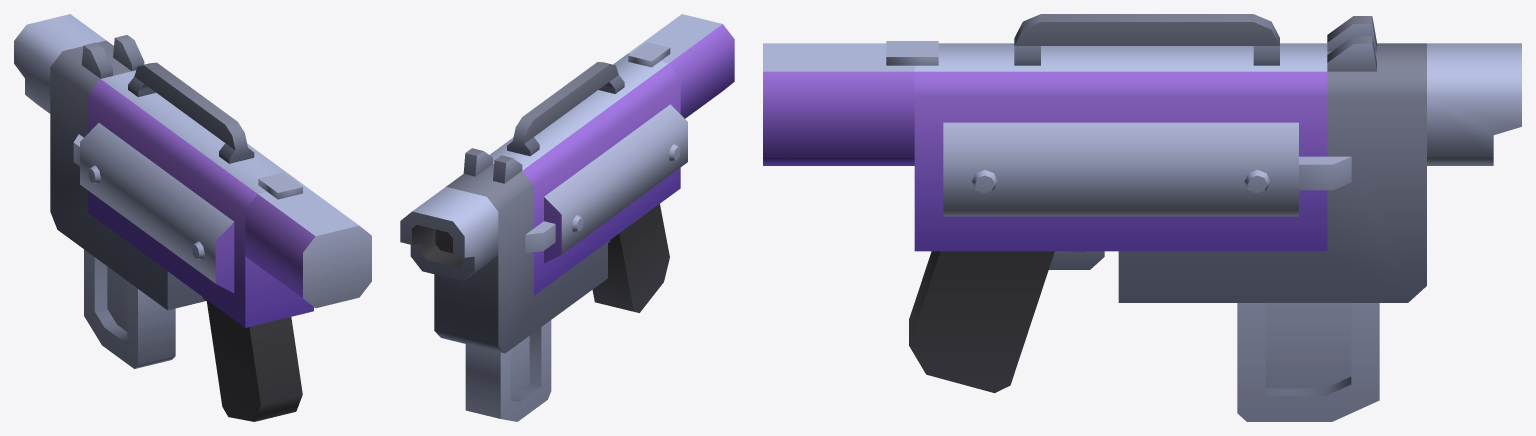
The model's file is toy_blaster.glb.
3 renders of one model, left to right at view 1: azimuth 30°, elevation 25°; view 2: azimuth 150°, elevation 25°; view 3: azimuth 270°, elevation 25°, orthographic. The views are drawn at different scales.
Parts seen in each view (by area): view 1: blaster-a; view 2: blaster-a; view 3: blaster-a.
Part boxes in pixels (x1,y1,x2,y2): blaster-a: (14,14,371,421); blaster-a: (400,14,734,421); blaster-a: (763,14,1521,421).
Size of the model in its own units: 0.1838 by 0.4559 by 0.8.
Materials: 1 (1 with a texture image).
